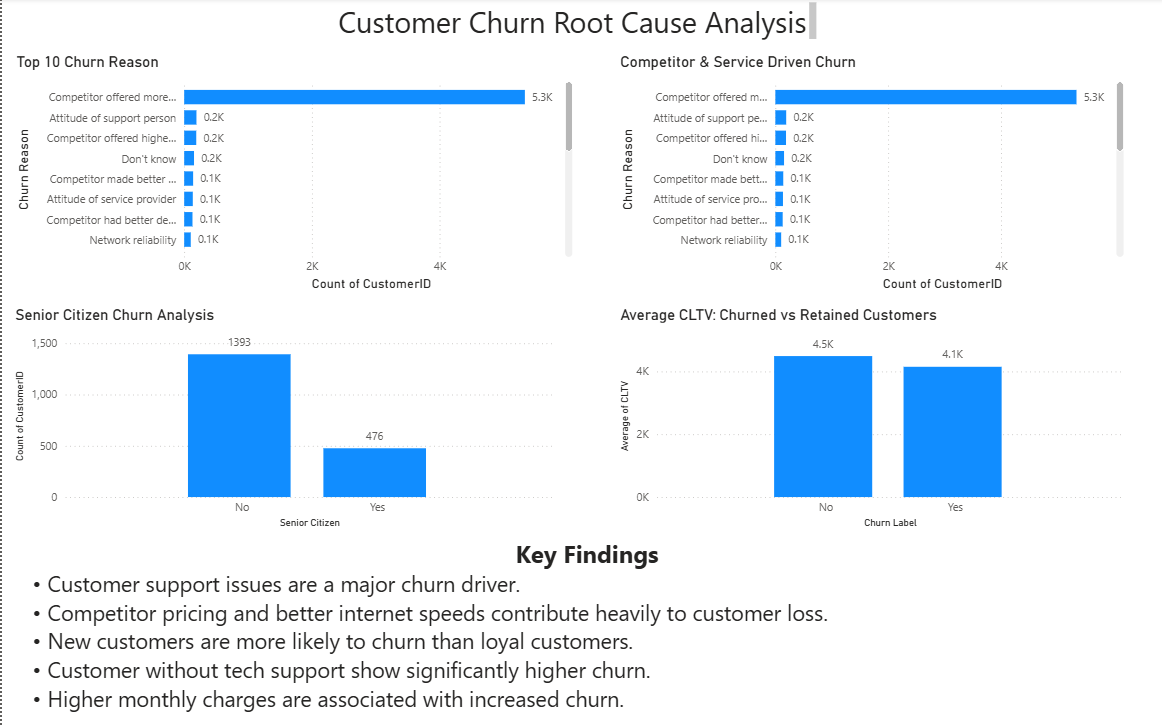

Layout of this report page (visuals, bound fields, positions):
{"tool":"powerbi","page":{"name":"Root Cause Analysis","canvas":[1292,819],"ordinal":1},"visuals":[{"type":"textbox","box":[10,0,280,280],"z":0},{"type":"textbox","box":[368.6,0,542.5,51.5],"z":1000},{"type":"clusteredBarChart","title":"Top 10 Churn Reason","fields":{"Category":["sales.Churn Reason"],"Y":["CountNonNull(sales.CustomerID)"]},"box":[11.1,61.2,628.7,269.8],"z":2000},{"type":"clusteredBarChart","title":"Competitor & Service Driven Churn","fields":{"Category":["sales.Churn Reason"],"Y":["CountNonNull(sales.CustomerID)"]},"box":[683,61.2,570.3,269.8],"z":3000},{"type":"columnChart","title":"Senior Citizen Churn Analysis","fields":{"Category":["sales.Senior Citizen"],"Y":["CountNonNull(sales.CustomerID)"]},"box":[9.7,342.2,609.2,253.2],"z":4000},{"type":"columnChart","title":"Average CLTV: Churned vs Retained Customers","fields":{"Category":["sales.Churn Label"],"Y":["Avg(sales.CLTV)"]},"box":[683,342.2,570.3,253.2],"z":5000},{"type":"textbox","box":[9.7,595.3,1282.5,205.9],"z":6000}]}

Visuals, with their boxes in screenshot pixels (x1, y1, x2, y2), scaled from the page's 1292x819 canvas onto the 1162x727 screenshot:
textbox: [x1=9, y1=0, x2=261, y2=249]
textbox: [x1=332, y1=0, x2=819, y2=46]
"Top 10 Churn Reason" clusteredBarChart: [x1=10, y1=54, x2=575, y2=294]
"Competitor & Service Driven Churn" clusteredBarChart: [x1=614, y1=54, x2=1127, y2=294]
"Senior Citizen Churn Analysis" columnChart: [x1=9, y1=304, x2=557, y2=529]
"Average CLTV: Churned vs Retained Customers" columnChart: [x1=614, y1=304, x2=1127, y2=529]
textbox: [x1=9, y1=528, x2=1161, y2=711]
